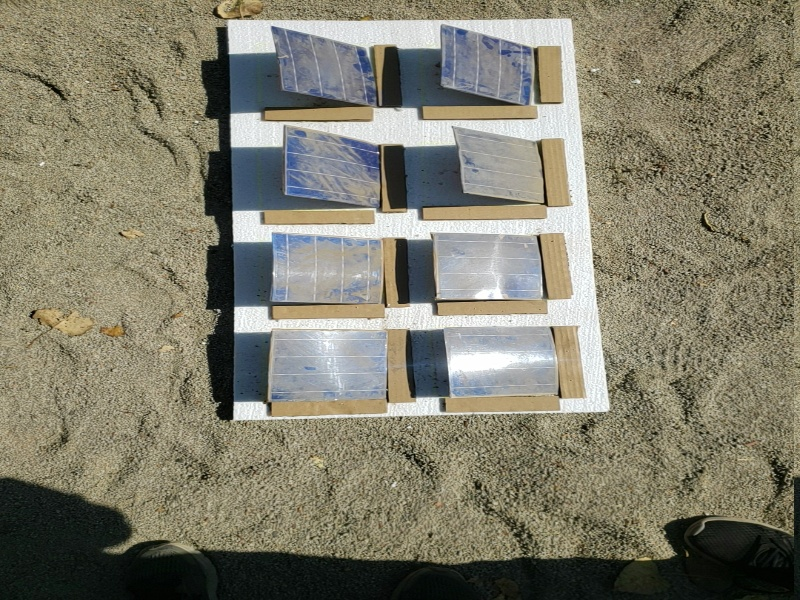dirty: (270, 24, 380, 108), (280, 124, 384, 210), (442, 324, 557, 399), (270, 230, 382, 307), (267, 330, 390, 399), (429, 233, 549, 300), (441, 22, 536, 106), (454, 127, 547, 203)
